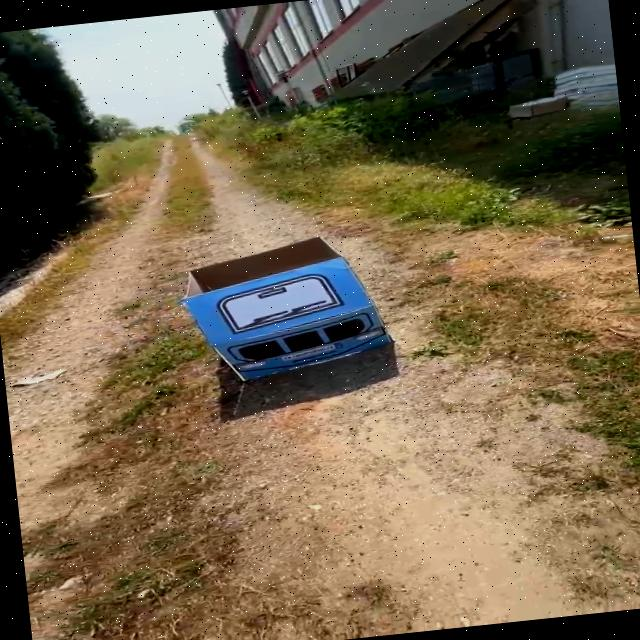blue_car: (166, 211, 400, 409)
